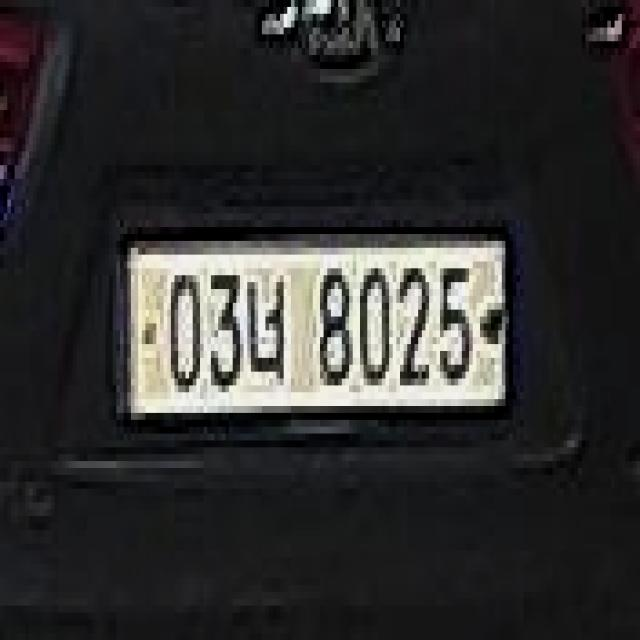illegal_plate: (121, 223, 515, 440)
